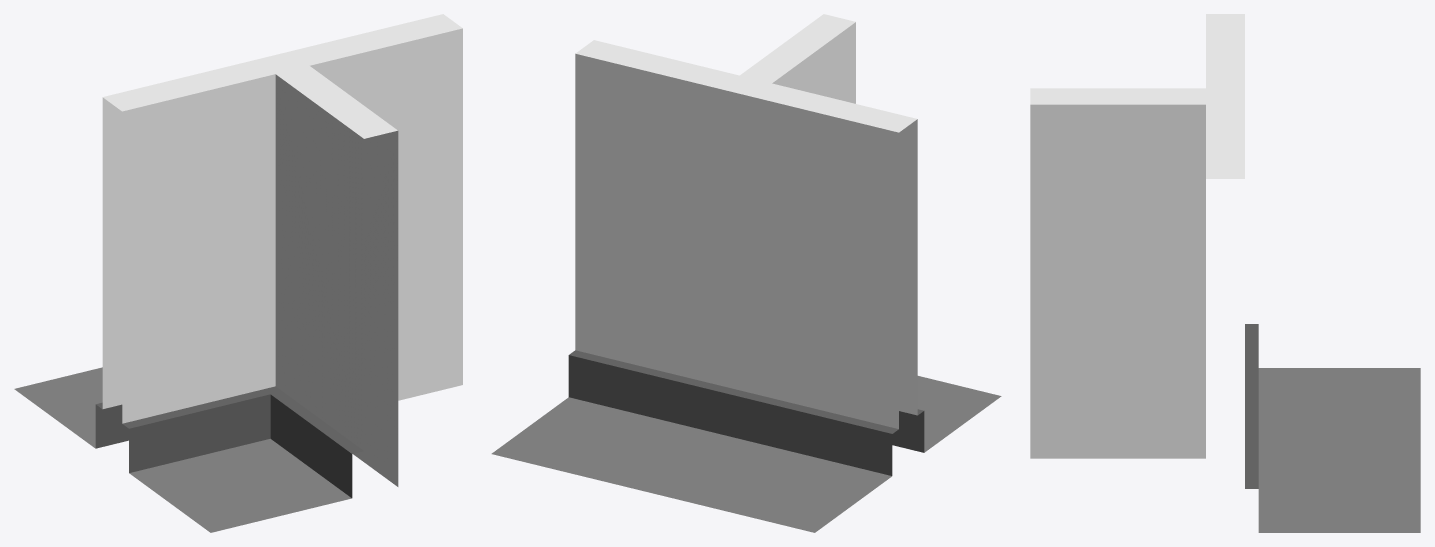
Rendered from I_Wall_T_Shape_Elevator_R.fbx.
3 views of the same model, side by side, from view 1: azimuth 30°, elevation 25°; view 2: azimuth 150°, elevation 25°; view 3: azimuth 270°, elevation 25° (orthographic). The views are drawn at different scales.
Visible parts, largest first — view 1: I_Wall_T_Shape_Elevator_R; view 2: I_Wall_T_Shape_Elevator_R; view 3: I_Wall_T_Shape_Elevator_R.
Part boxes in pixels (left/top/right/bottom): I_Wall_T_Shape_Elevator_R: left=14, top=14, right=462, bottom=532; I_Wall_T_Shape_Elevator_R: left=491, top=14, right=1001, bottom=532; I_Wall_T_Shape_Elevator_R: left=1030, top=14, right=1420, bottom=532.
Size of the model in its own units: 200 by 200 by 200.
